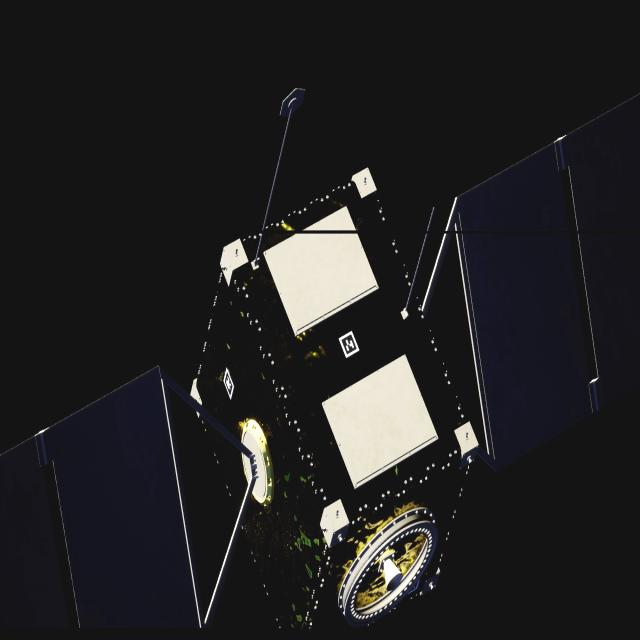satellite: (0, 95, 640, 631)
